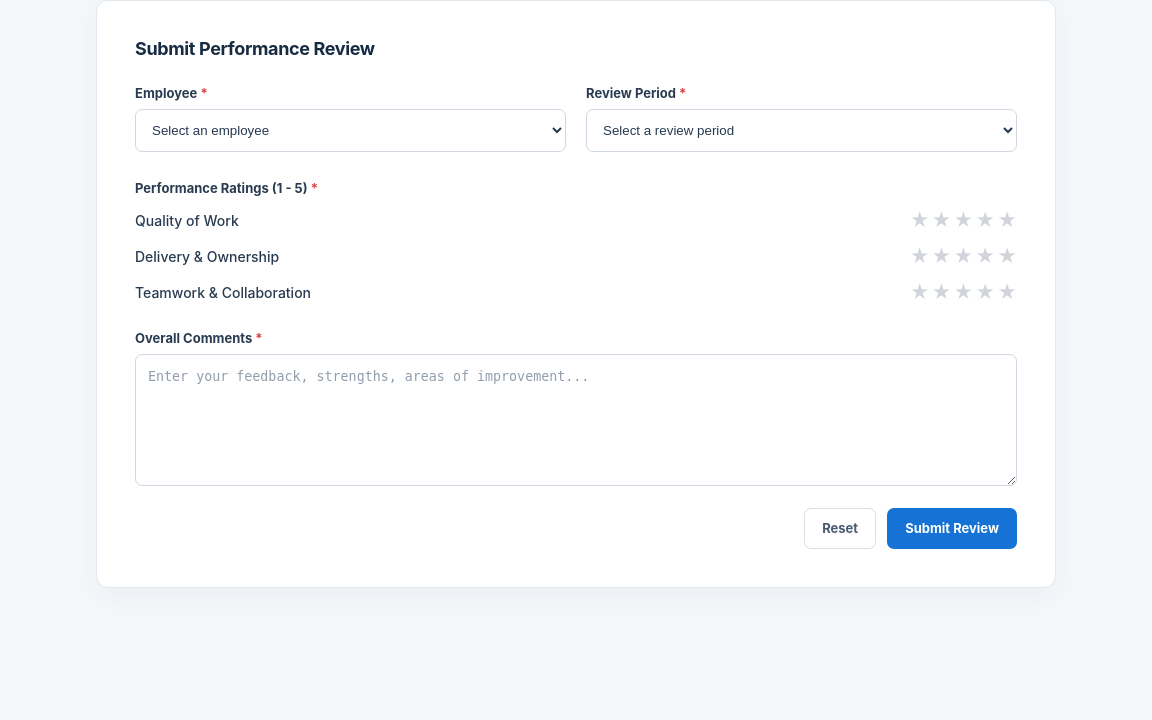
Test: SubmitReview › validates required fields before submitting
The image size is (1152, 720).
Click the button "Submit Review": (952, 528) [887,508,1017,549]
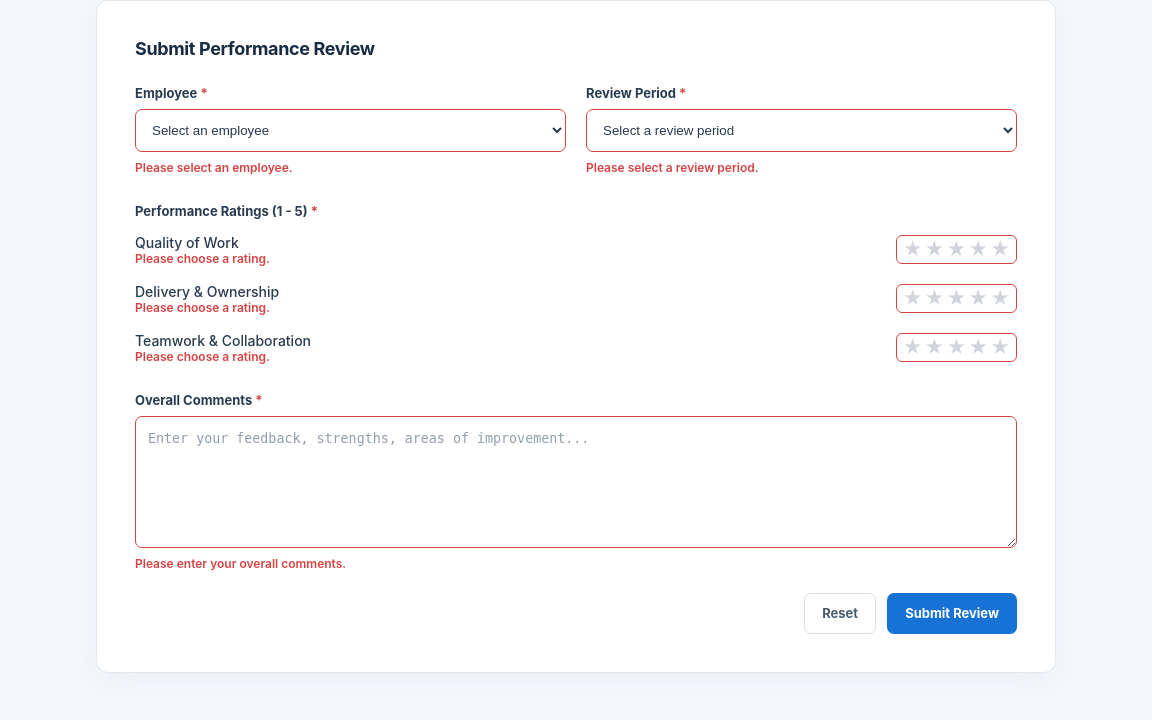
expect the text "Please select an employee." is shown: met, box [135,160,293,175]
expect the text "Please select a review period." is shown: met, box [586,160,758,175]
expect the text "Please enter your overall comments." is shown: met, box [135,556,346,571]
